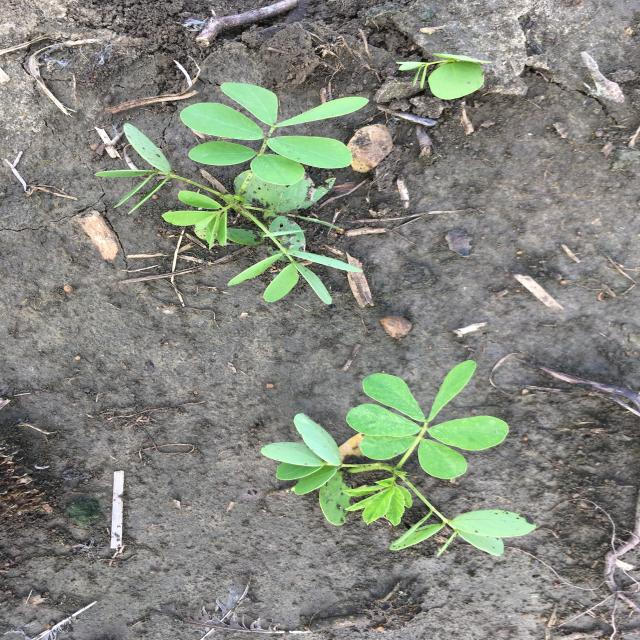Sicklepod: (92, 82, 374, 308), (256, 358, 540, 561), (391, 48, 494, 102)
